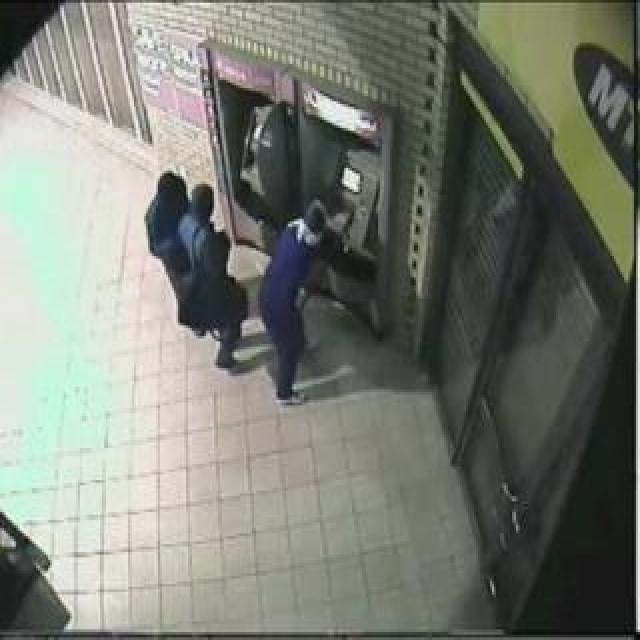thief: (132, 156, 215, 302), (289, 208, 342, 276)
